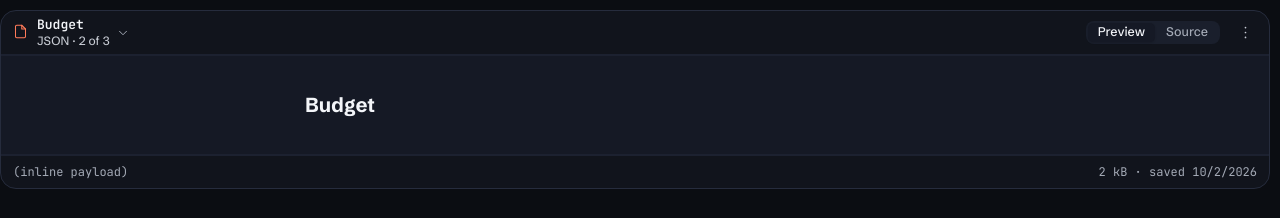
Test case: DocumentPanel: the header switcher › closes the list on Escape without closing the artifact
Click the button "Budget JSON · 2 of 3" at (83, 32), box [31,10,136,54]
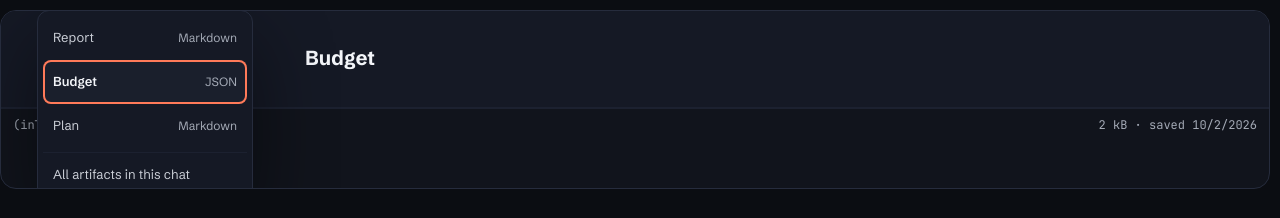
Press Escape in the list, box [37,10,253,202]
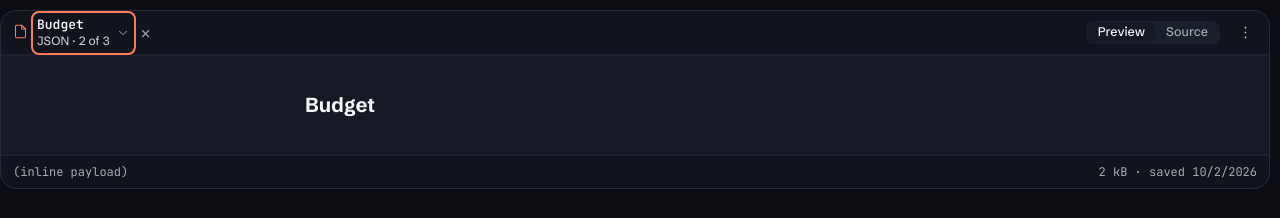
Check: the list is gone
Check: the button named "Close Budget" is shown, box [134,20,158,44]
